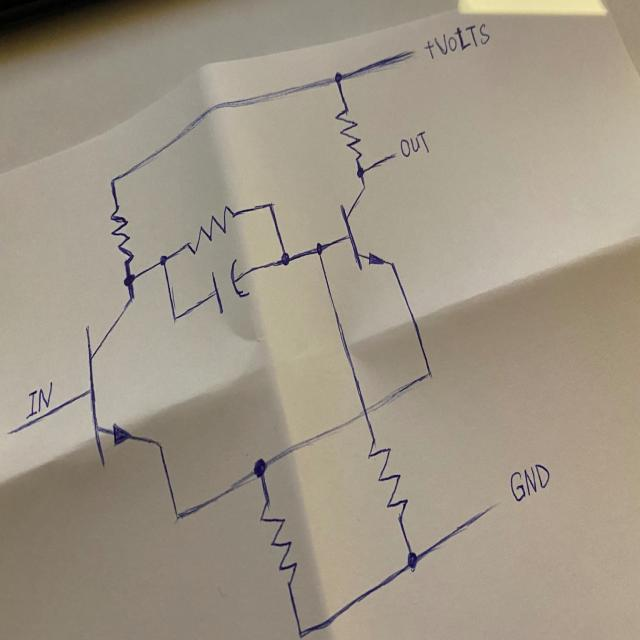capacitor: (204, 258, 253, 318)
crossover: (353, 396, 377, 426)
junction: (244, 444, 274, 482), (400, 544, 428, 578), (168, 501, 190, 535), (289, 616, 314, 640), (166, 304, 186, 333), (309, 236, 329, 263), (327, 62, 348, 87), (418, 359, 437, 386), (275, 247, 295, 271), (262, 195, 280, 220), (104, 167, 122, 191), (154, 247, 171, 271), (122, 270, 138, 289), (356, 164, 368, 183)
resistor: (259, 500, 298, 584), (368, 440, 408, 520), (182, 205, 238, 252), (333, 106, 362, 161), (110, 206, 135, 266)
terminal: (476, 493, 507, 521), (392, 45, 422, 68), (3, 420, 27, 440), (384, 146, 399, 167)
text: (435, 23, 489, 56), (509, 463, 551, 501), (400, 129, 433, 156), (25, 383, 50, 414), (423, 36, 434, 61)
transistor: (84, 298, 162, 461), (338, 187, 398, 271)
